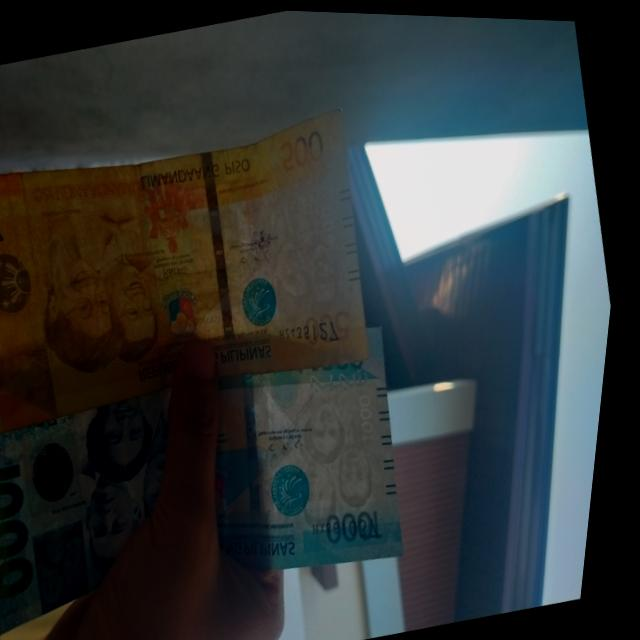concealed_value: (35, 516, 114, 616), (0, 342, 74, 437)
optically_variable_device: (19, 424, 103, 519), (0, 233, 58, 333)
security_thread: (183, 145, 268, 380), (224, 370, 304, 575)
value: (0, 456, 63, 611)
value_watermark: (309, 189, 350, 250), (356, 382, 395, 445)
watermark: (276, 380, 405, 537), (252, 179, 368, 342)
